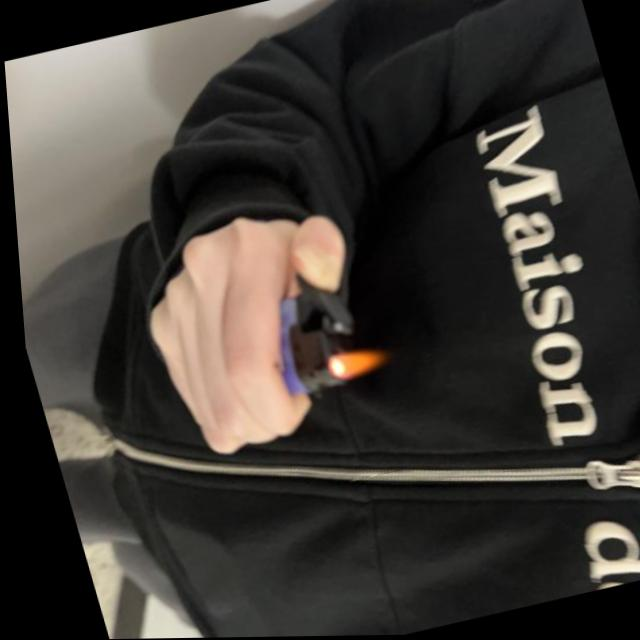Fire: (318, 345, 386, 383)
